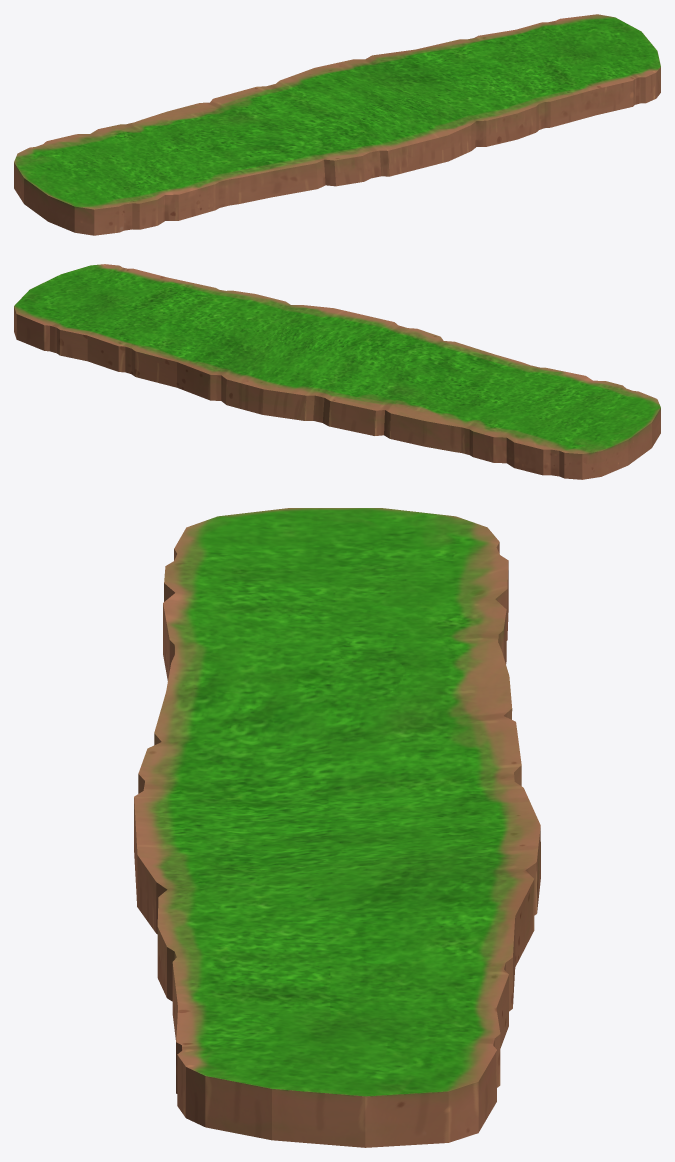
File: ground_02.fbx
3 views of the same model, one above another, from view 1: azimuth 30°, elevation 25°; view 2: azimuth 150°, elevation 25°; view 3: azimuth 270°, elevation 25° (orthographic). The views are drawn at different scales.
Parts seen in each view (by area): view 1: ground_02; view 2: ground_02; view 3: ground_02.
Part boxes in pixels (x1,y1,x2,y2): ground_02: [14, 14, 660, 235]; ground_02: [14, 264, 660, 479]; ground_02: [134, 508, 540, 1147].
Bounding box in the file's own units: 8.56 × 2.5 × 0.3499.
